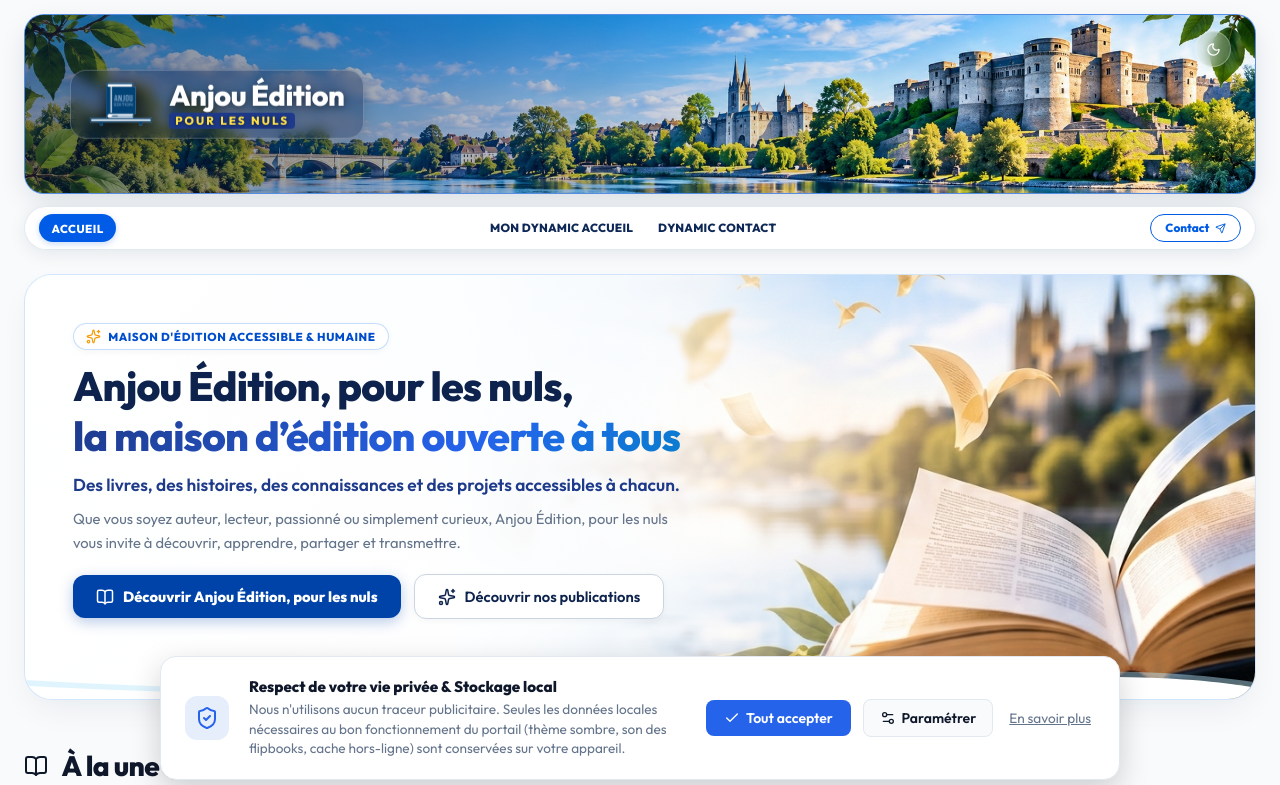
it: renders dynamic menu items and handles clicks
Expected: the button "Mon Dynamic Accueil" is shown, [480,213,644,243]
Click on the dynamic contact shortcode button
Step 1. Click the button "Dynamic Contact" → (717, 228), box [648,213,787,243]
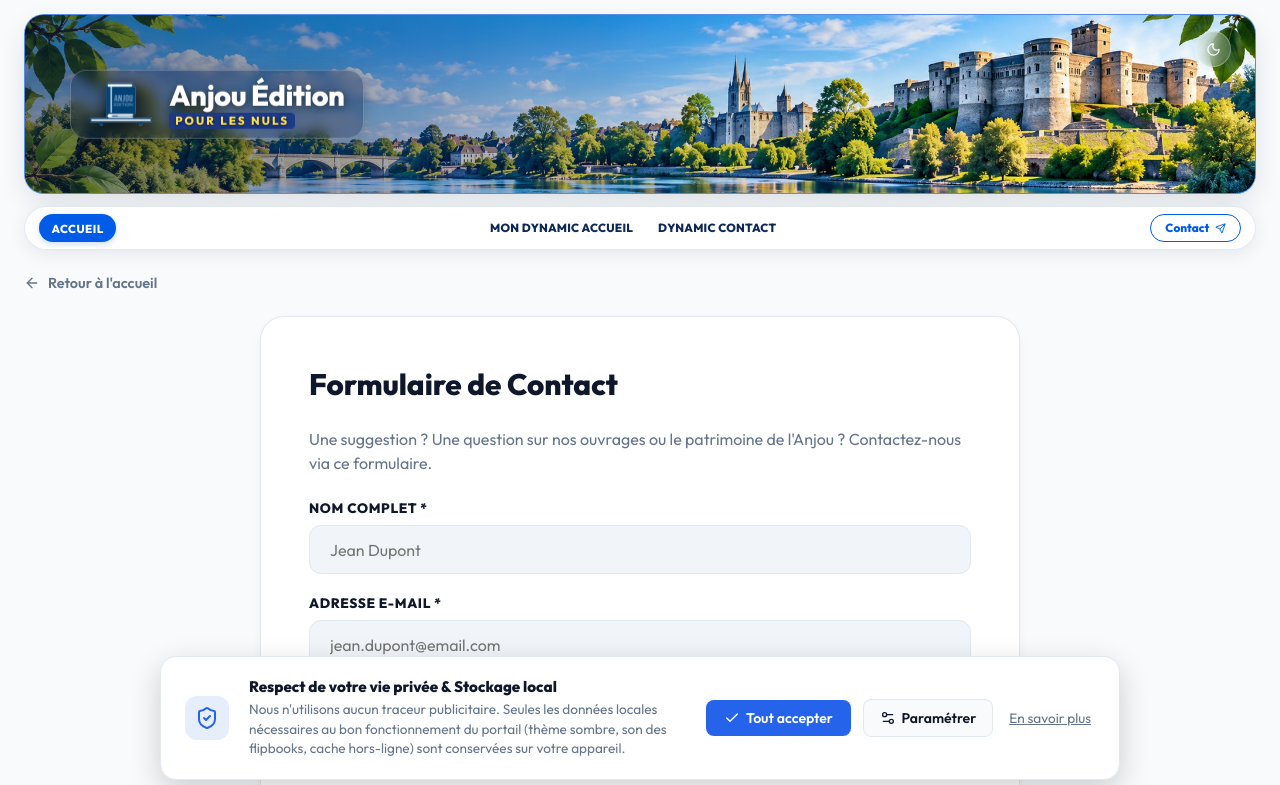
Expected: the heading "Formulaire de Contact" is shown, [309,365,618,403]
